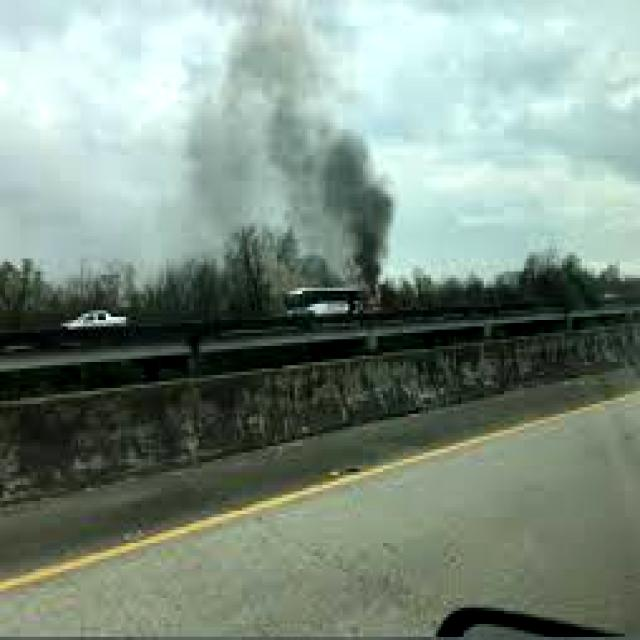no_helmet: (199, 16, 413, 312)
